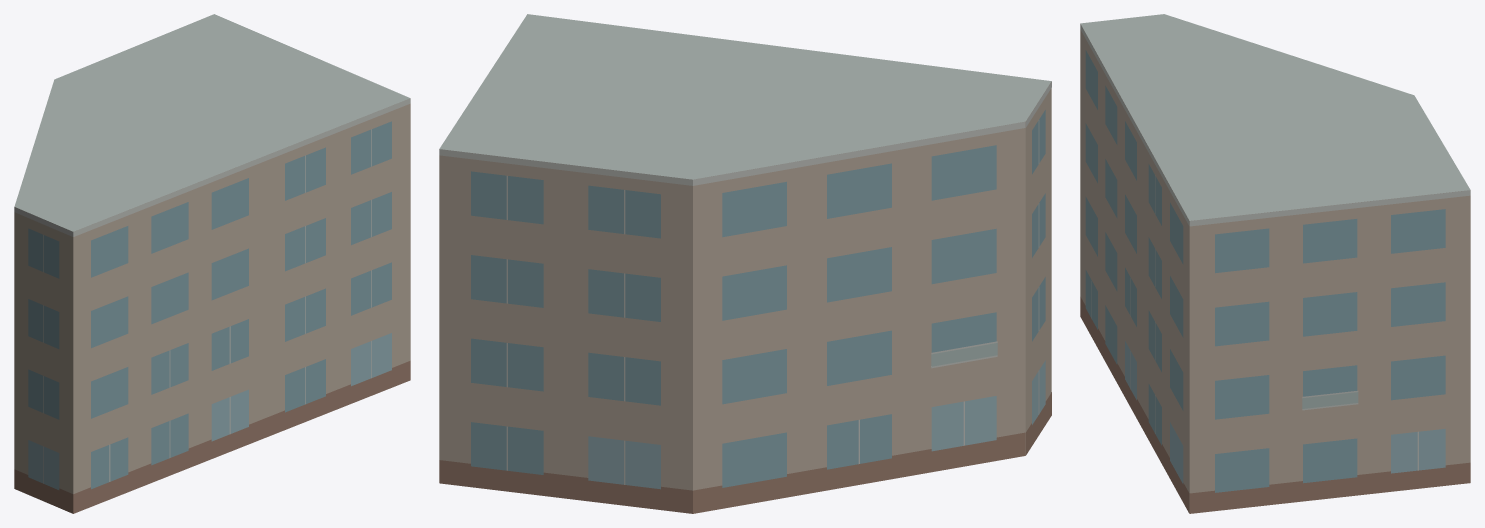
Rendered from survey-upis-32696582.glb.
The picture shows the model from 3 angles, left to right: view 1: azimuth 30°, elevation 25°; view 2: azimuth 150°, elevation 25°; view 3: azimuth 270°, elevation 25°; orthographic projection. The views are drawn at different scales.
Visible parts, largest first — view 1: survey-upis-32696582.tmp; view 2: survey-upis-32696582.tmp; view 3: survey-upis-32696582.tmp.
Boxes of the visible parts, x1=… form: survey-upis-32696582.tmp: x1=14, y1=14, x2=410, y2=513; survey-upis-32696582.tmp: x1=439, y1=14, x2=1051, y2=513; survey-upis-32696582.tmp: x1=1080, y1=14, x2=1470, y2=513.
Size of the model in its own units: 19.55 by 12.9 by 15.59.
